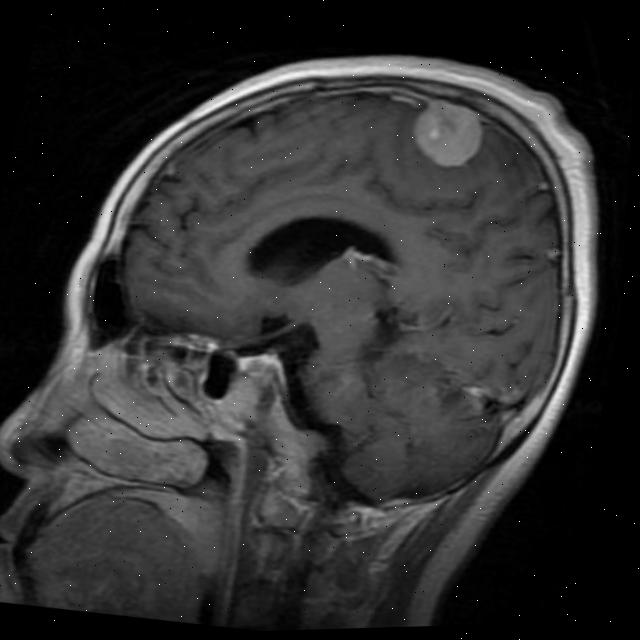Meningioma: (404, 95, 489, 171)
